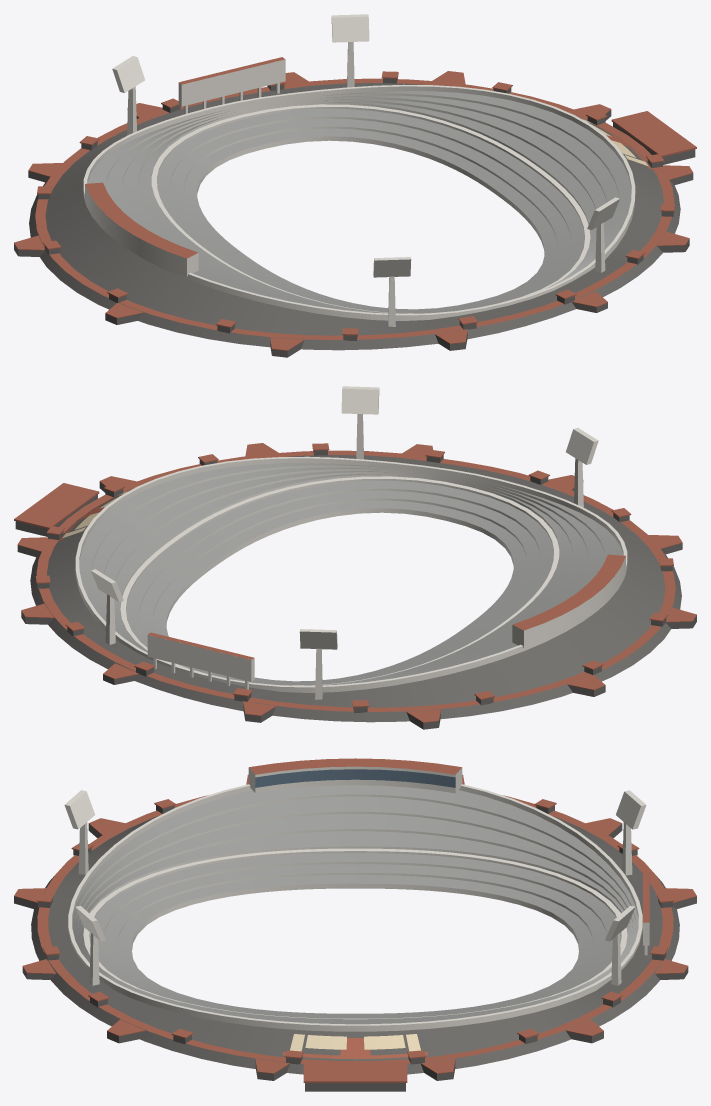
The model's file is mexico-city-estadio-olimpico-universitario.glb.
3 renders of one model, top to bottom at view 1: azimuth 30°, elevation 25°; view 2: azimuth 150°, elevation 25°; view 3: azimuth 270°, elevation 25°, orthographic. The views are drawn at different scales.
Parts seen in each view (by area): view 1: Estadio Olímpico Universitario; view 2: Estadio Olímpico Universitario; view 3: Estadio Olímpico Universitario.
Part boxes in pixels (x1,y1,x2,y2): Estadio Olímpico Universitario: (14,14,696,357); Estadio Olímpico Universitario: (14,386,696,729); Estadio Olímpico Universitario: (14,758,696,1091).
Size of the model in its own units: 306 by 44.95 by 283.
